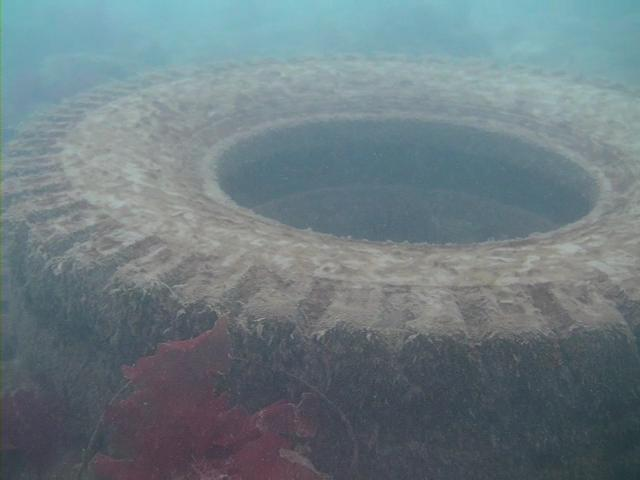tire: (0, 51, 640, 478)
